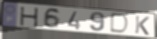4: (67, 11, 82, 31)
6: (41, 7, 62, 30)
9: (89, 12, 106, 34)
D: (109, 12, 131, 35)
H: (19, 6, 41, 28)
K: (134, 15, 151, 36)
